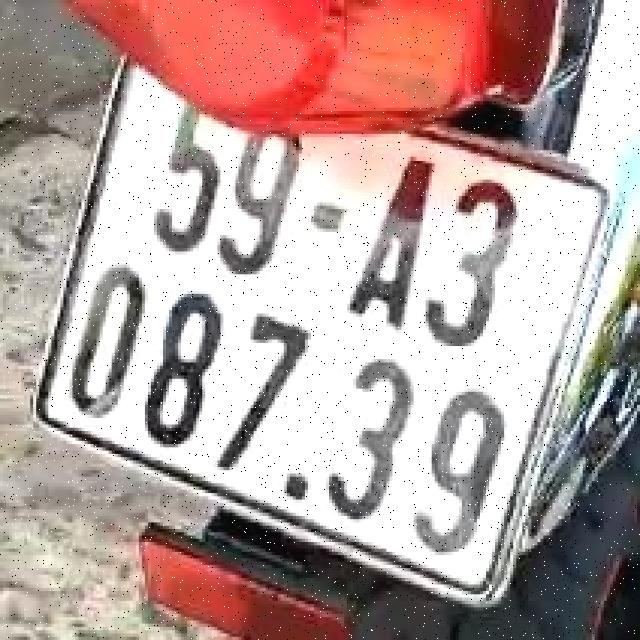0: (57, 258, 161, 429)
3: (413, 164, 533, 367), (313, 344, 428, 534)
5: (130, 73, 250, 261)
7: (205, 304, 321, 486)
8: (130, 282, 236, 462)
9: (399, 376, 521, 569), (205, 103, 316, 293)
A: (334, 142, 455, 340)
